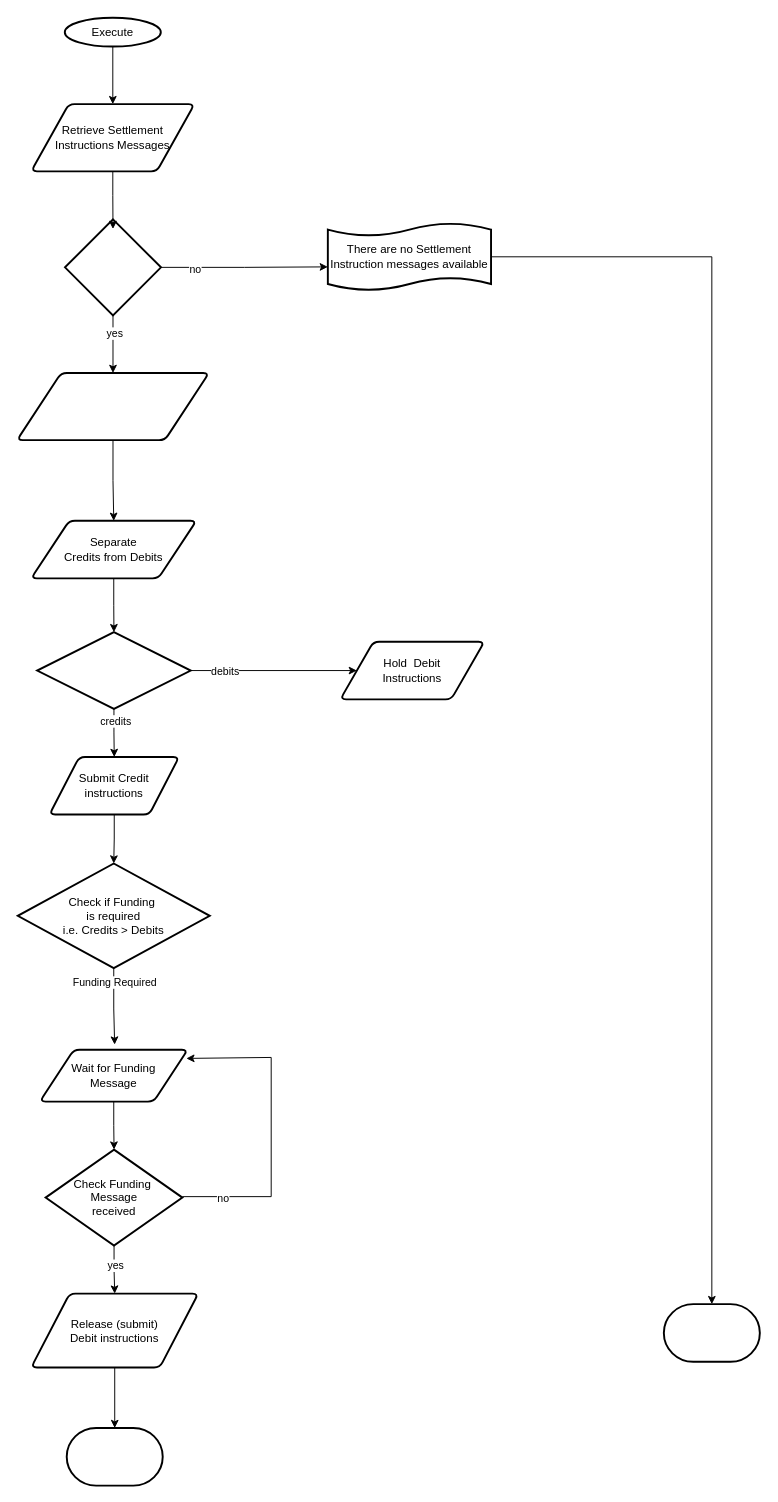
This 778x1502 diagram has some shape labels left out. The centre of each missing label's shape, as x and y in pixels:
Any Message?: (x=112, y=267)
Check Credit Instructions: (x=113, y=670)
End Status:Fail: (x=711, y=1332)
End Status:Pass: (x=114, y=1456)
Process SettlementInstructions: (x=112, y=406)
